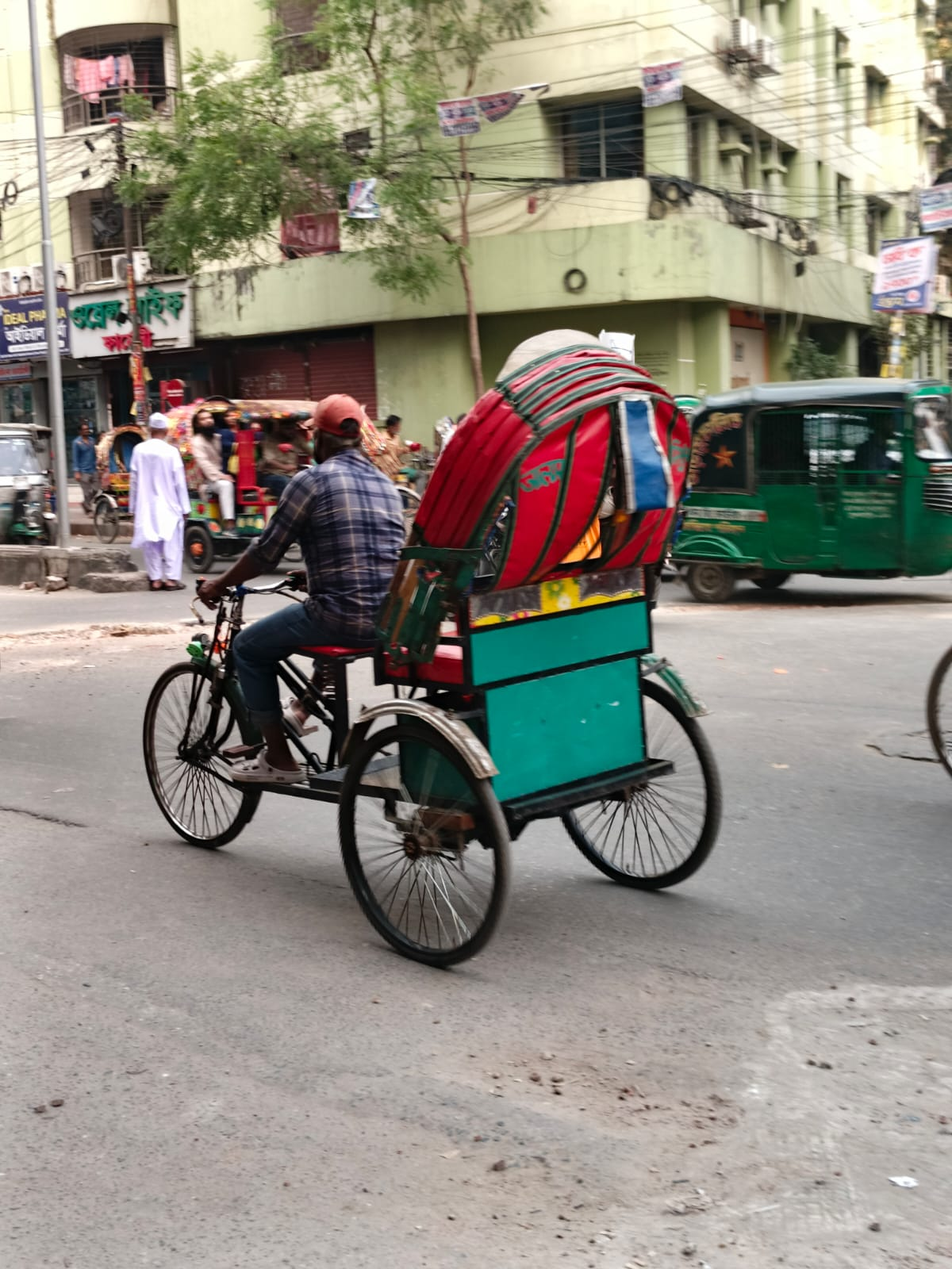auto-ricksaw: (147, 334, 735, 954)
cng: (694, 358, 952, 613)
